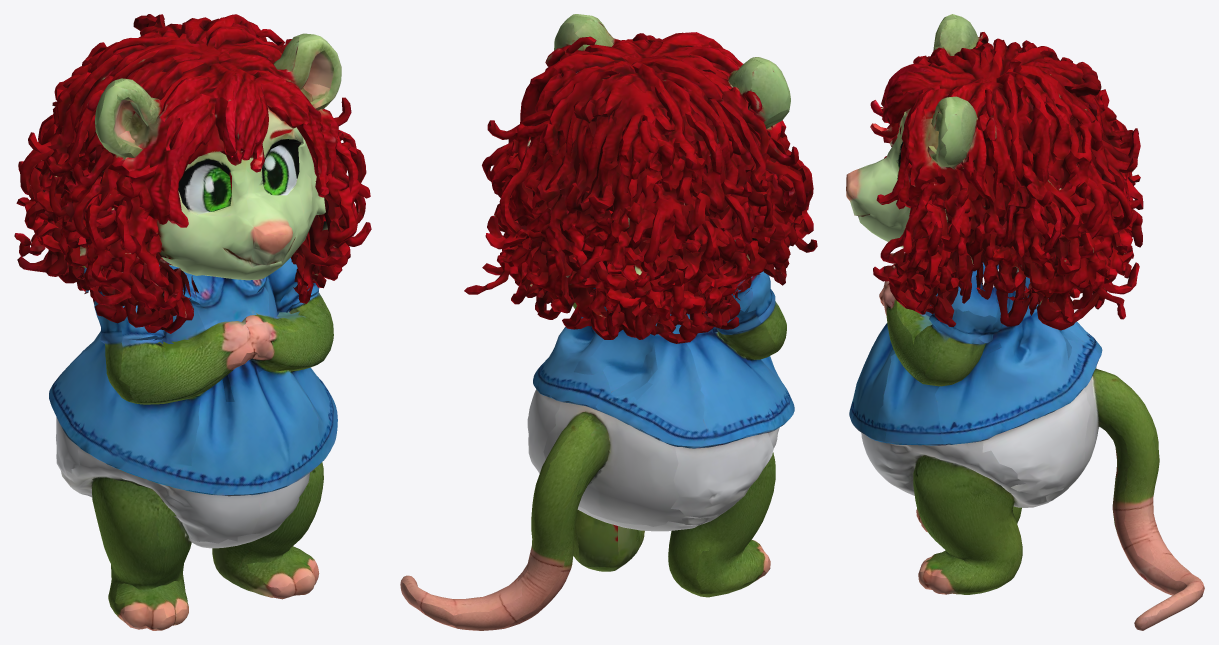
The model's file is possley.glb.
3 renders of one model, left to right at view 1: azimuth 30°, elevation 25°; view 2: azimuth 150°, elevation 25°; view 3: azimuth 270°, elevation 25°, orthographic. The views are drawn at different scales.
Parts seen in each view (by area): view 1: temp_mesh.ply.001, temp_mesh.ply; view 2: temp_mesh.ply.001, temp_mesh.ply; view 3: temp_mesh.ply.001, temp_mesh.ply.
Boxes of the visible parts, x1,y1,x2,y2 form: temp_mesh.ply.001: (14, 14, 371, 333); temp_mesh.ply: (49, 258, 337, 630); temp_mesh.ply.001: (464, 14, 817, 343); temp_mesh.ply: (400, 271, 794, 630); temp_mesh.ply.001: (846, 14, 1143, 330); temp_mesh.ply: (849, 262, 1204, 630).
Bounding box in the file's own units: 1.22 × 2.04 × 1.32.
3 materials, 2 textured.
